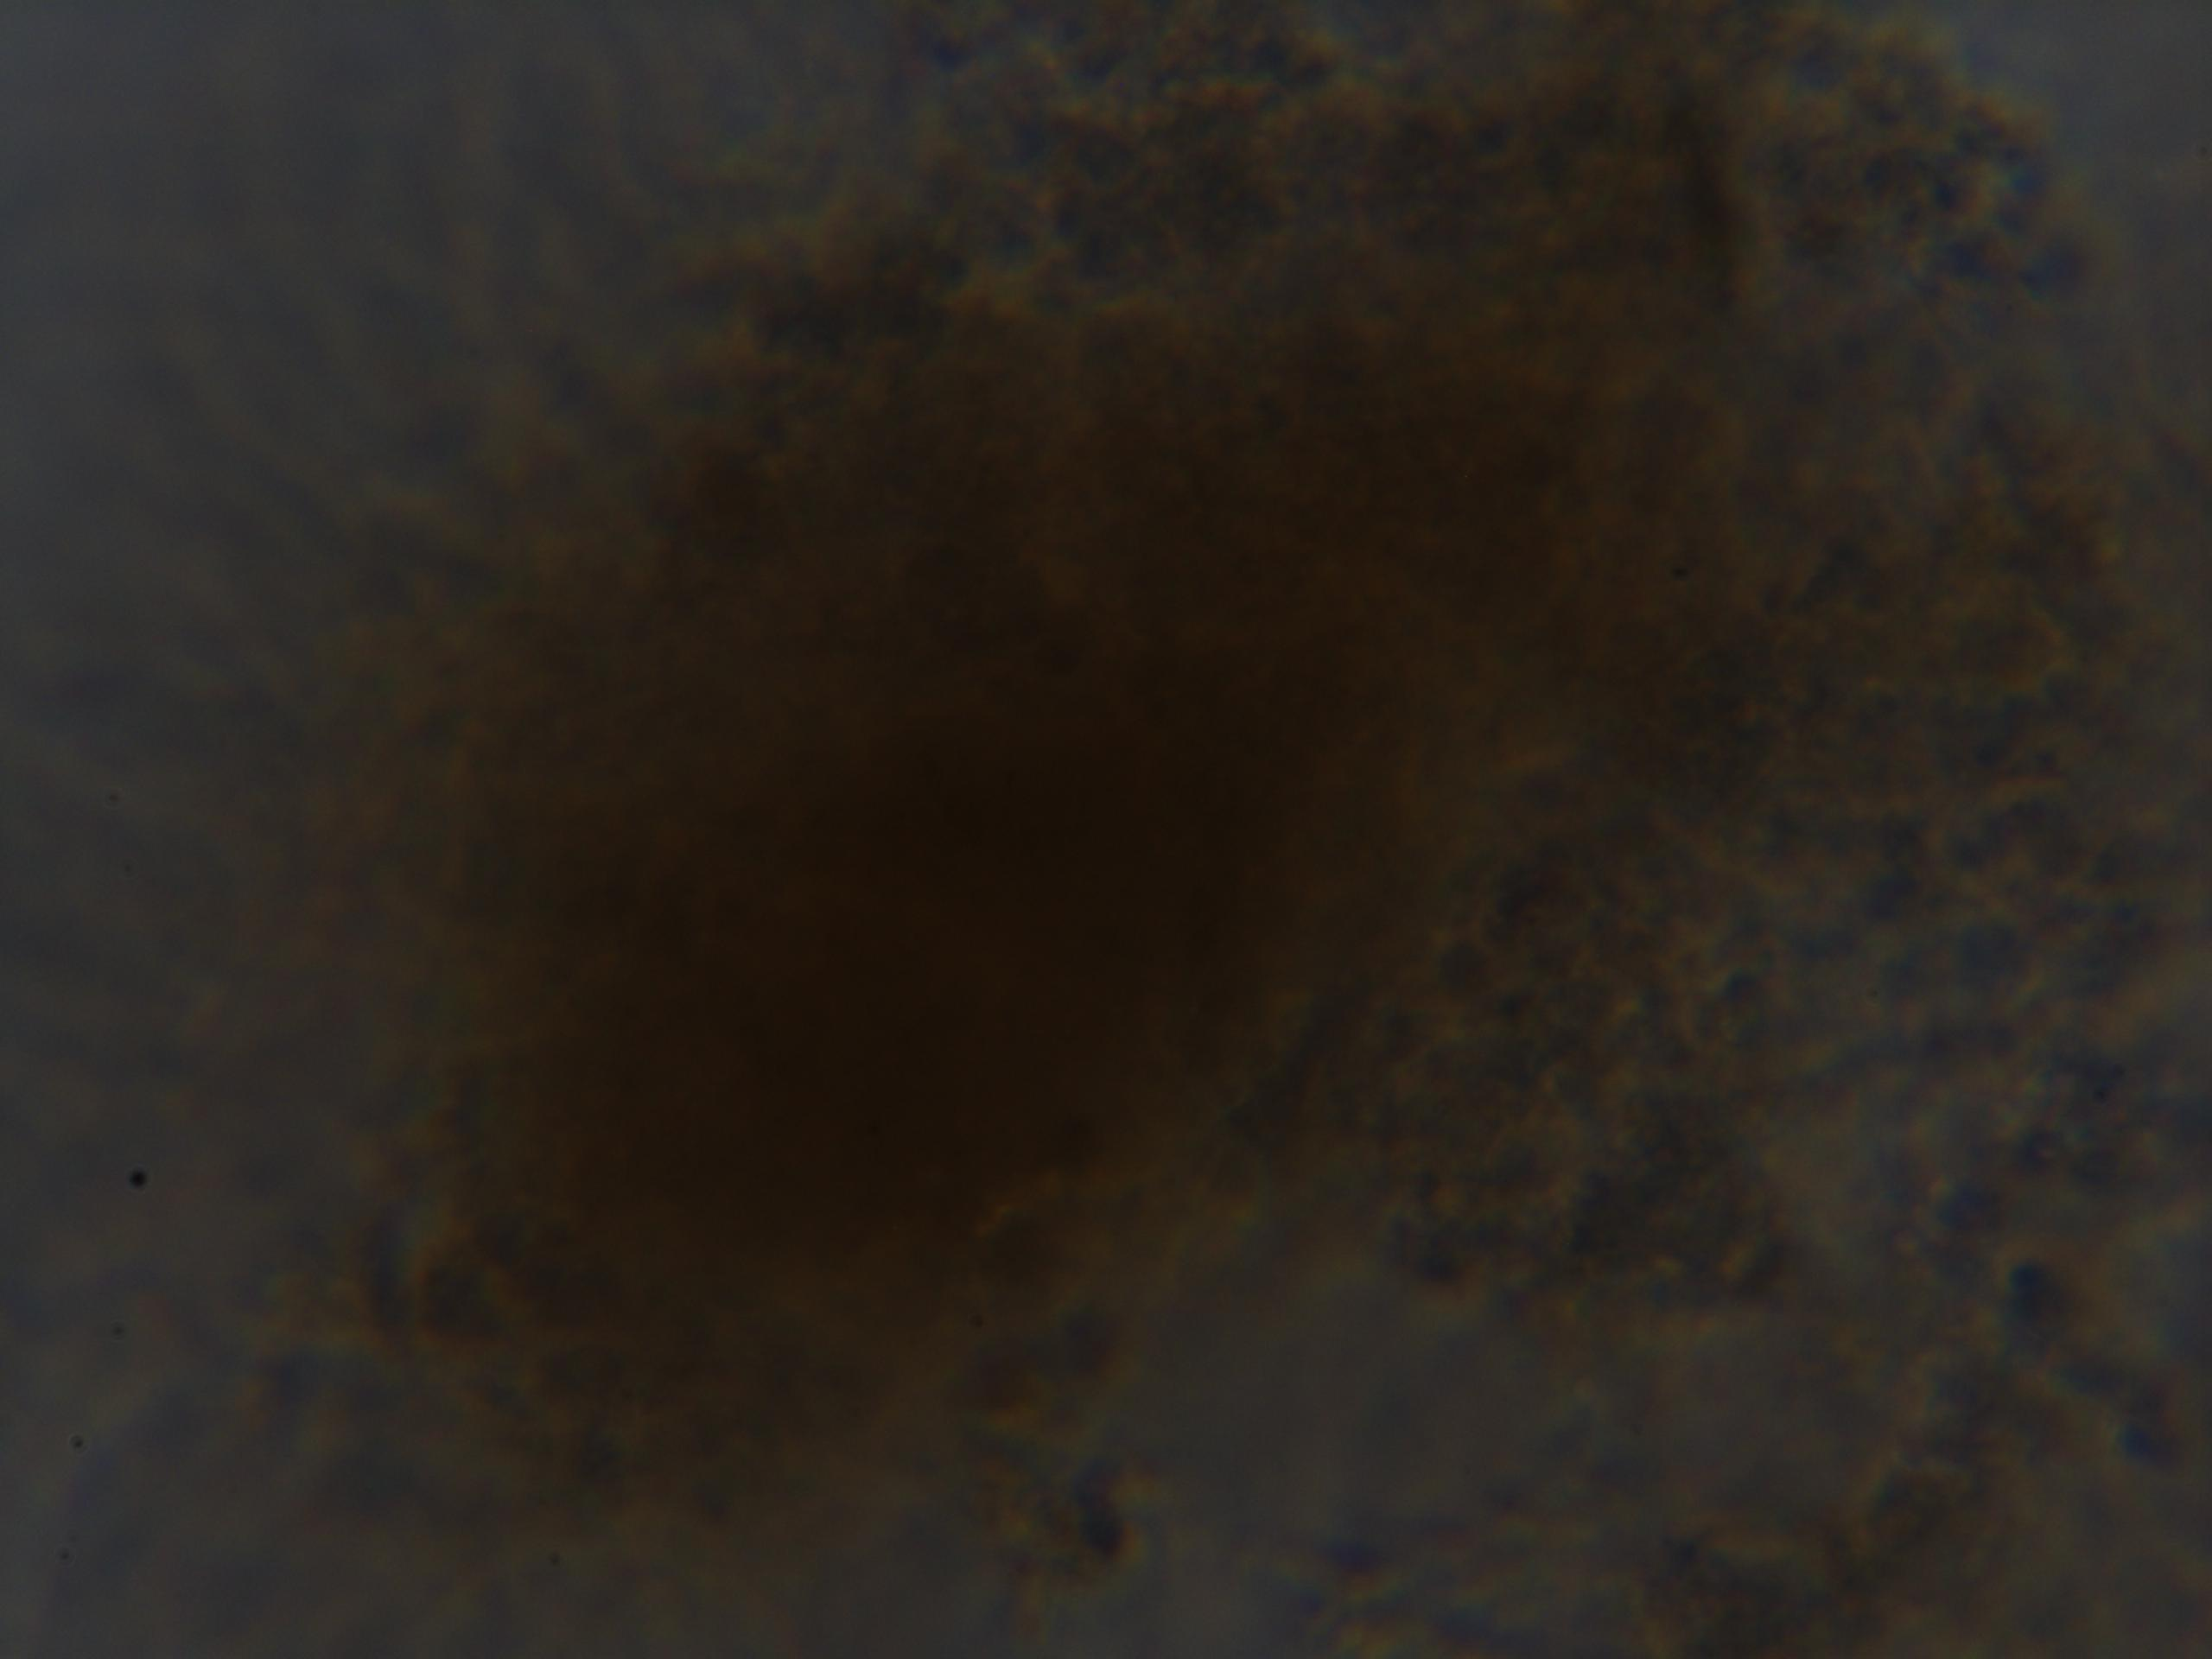spherical_floc: (340, 0, 2101, 1558)
